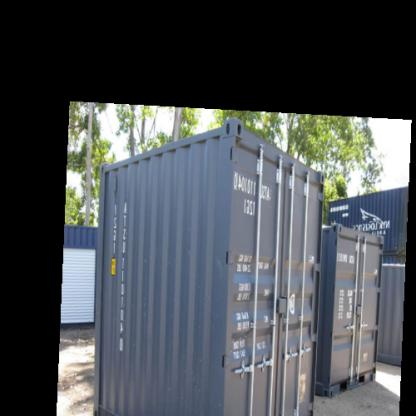Damage: (210, 248, 230, 282), (233, 325, 256, 345)
